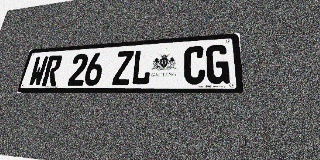2: (67, 53, 89, 86)
6: (83, 52, 105, 86)
C: (183, 46, 205, 84)
G: (206, 44, 230, 84)
L: (130, 49, 153, 85)
R: (41, 55, 63, 86)
W: (27, 56, 49, 86)
Z: (112, 50, 134, 85)
